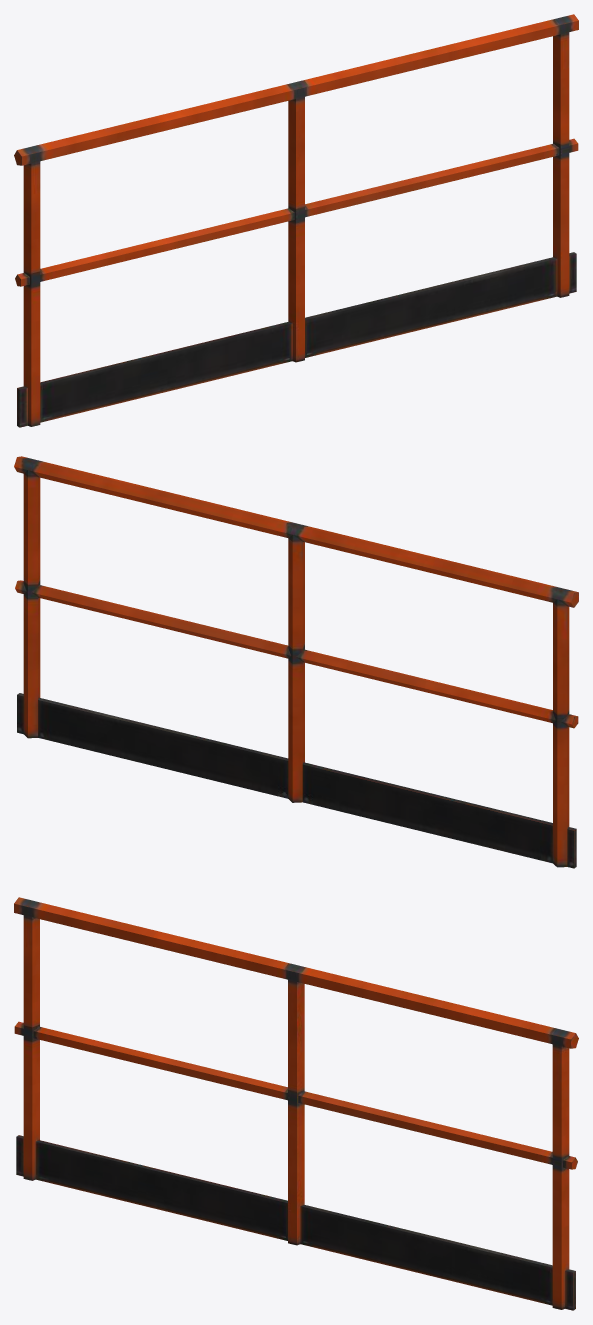
File: railing.glb
3 views of the same model, one above another, from view 1: azimuth 30°, elevation 25°; view 2: azimuth 150°, elevation 25°; view 3: azimuth 330°, elevation 25° (orthographic).
Visible parts, largest first — view 1: railing; view 2: railing; view 3: railing.
Boxes of the visible parts, left/top/right/bottom form: railing: left=14, top=14, right=578, bottom=427; railing: left=14, top=456, right=578, bottom=868; railing: left=14, top=897, right=578, bottom=1310.
Bounding box in the file's own units: 2 × 0.9457 × 0.0488.
Materials: 1 (1 with a texture image).
